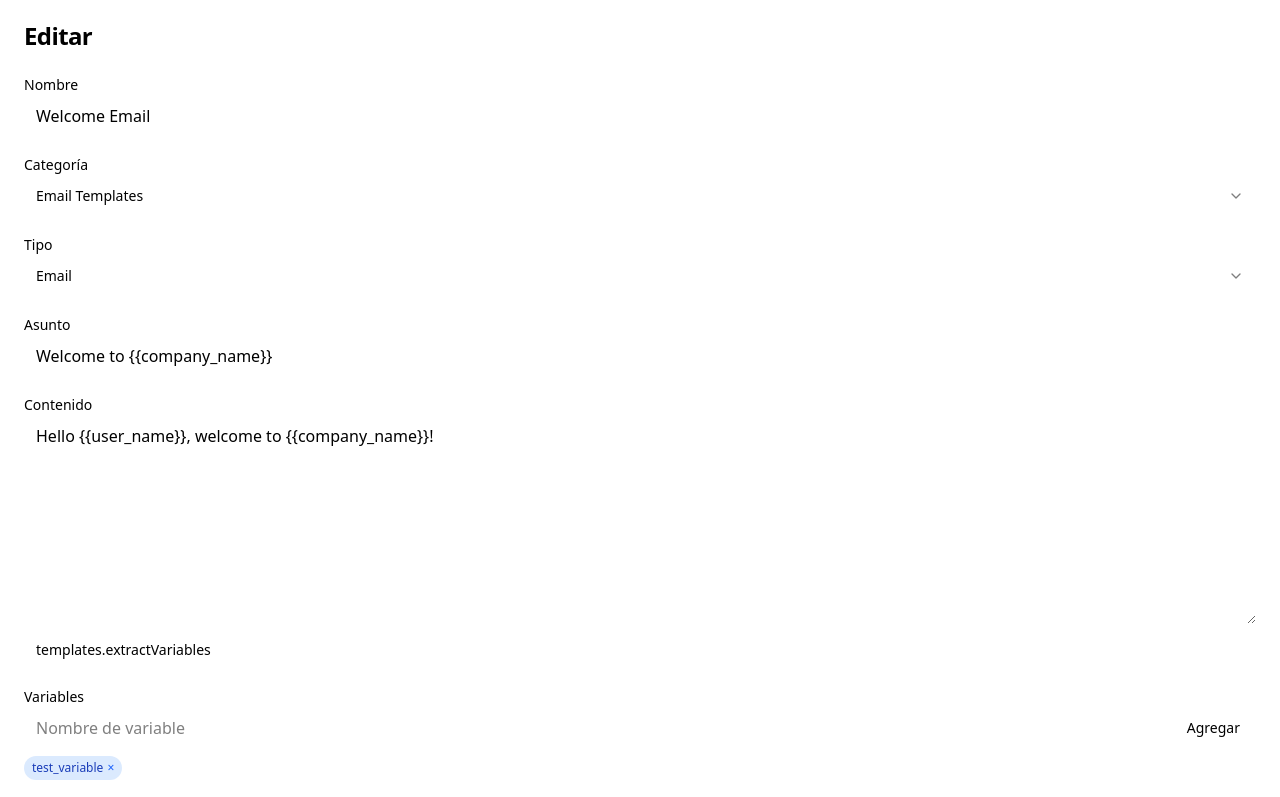
Test: Templates Module › TemplateForm › removes variables when X button is clicked
Click the button "×".
click(111, 768)  # box [107, 760, 114, 776]
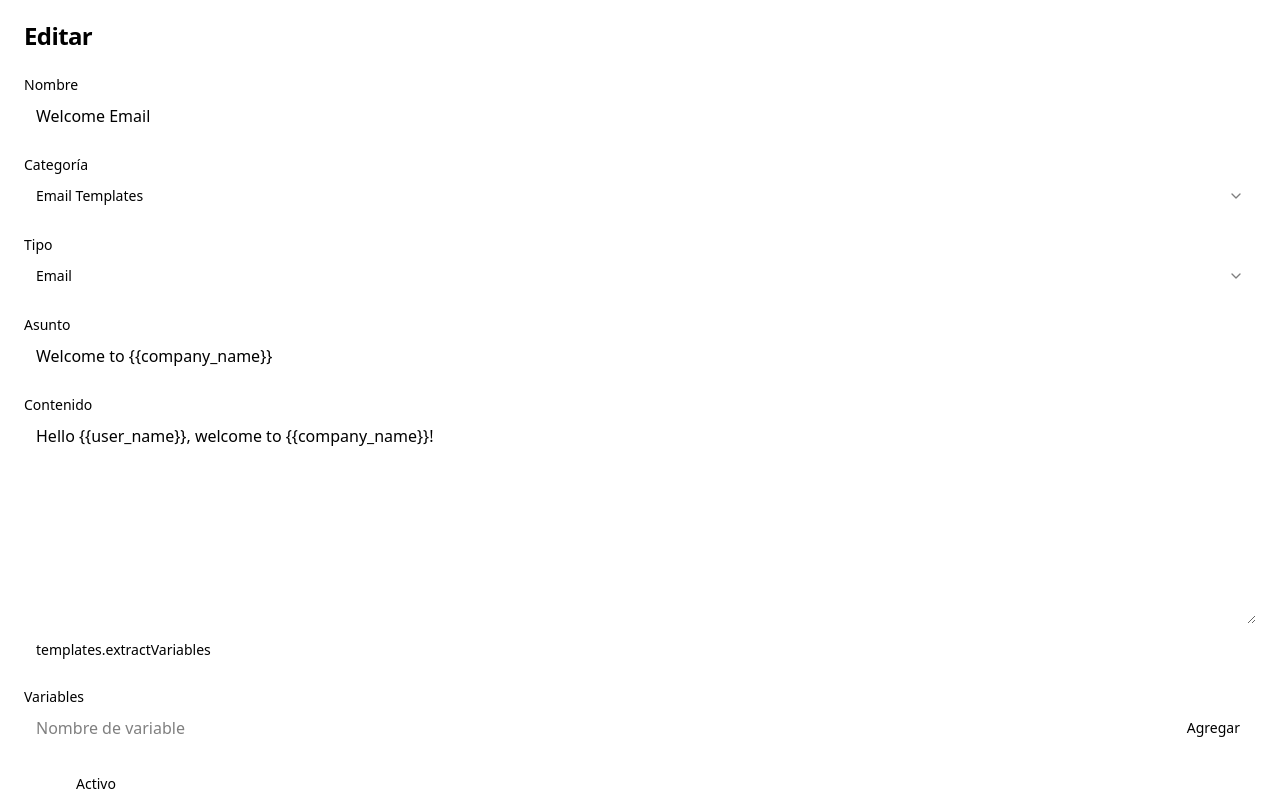
expect the text "test_variable" is gone: met
